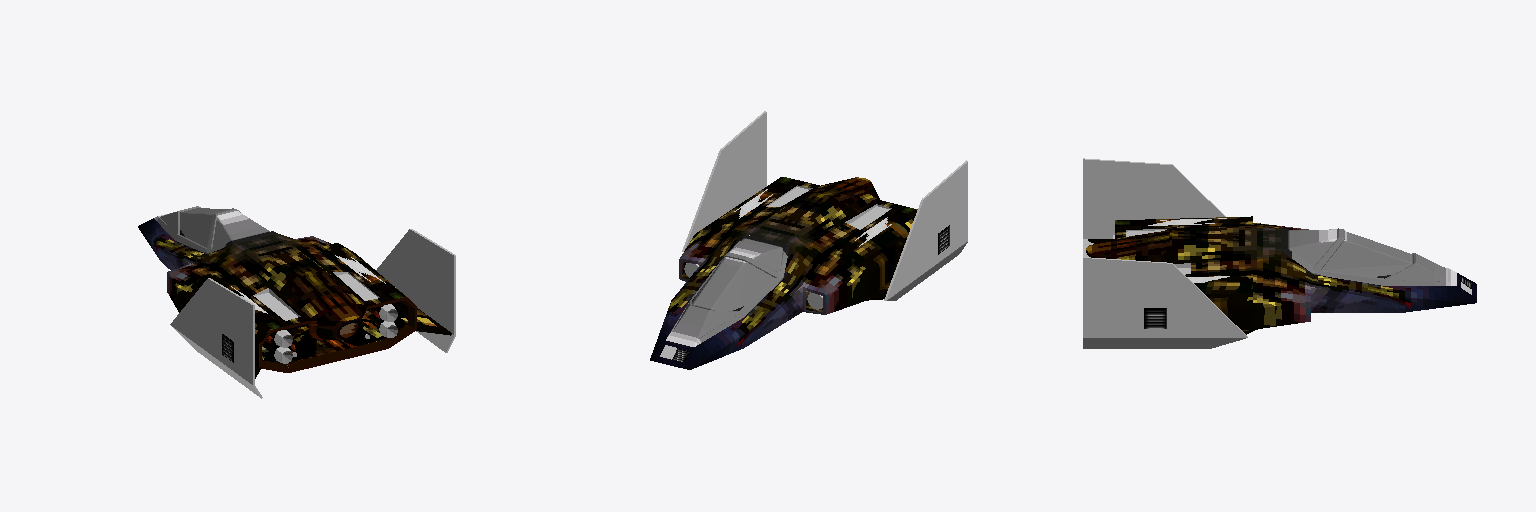
The picture shows the model from 3 angles: view 1: azimuth 30°, elevation 25°; view 2: azimuth 150°, elevation 25°; view 3: azimuth 270°, elevation 25°; orthographic projection.
Visible parts, largest first — view 1: 07_bluefalcon_02a; view 2: 07_bluefalcon_02a; view 3: 07_bluefalcon_02a.
Boxes of the visible parts, x1,y1,x2,y2 form: 07_bluefalcon_02a: [138, 206, 455, 398]; 07_bluefalcon_02a: [650, 111, 967, 369]; 07_bluefalcon_02a: [1083, 158, 1476, 348].
Bounding box in the file's own units: 2.52 × 1.12 × 4.2.
Materials: 19 (5 with a texture image).